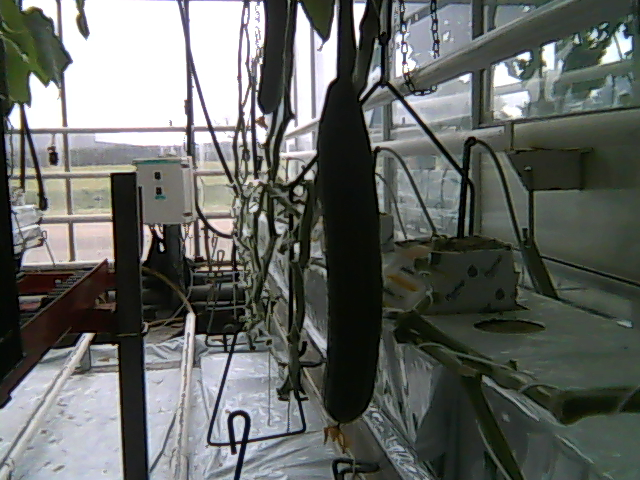concombre: (315, 67, 389, 456)
